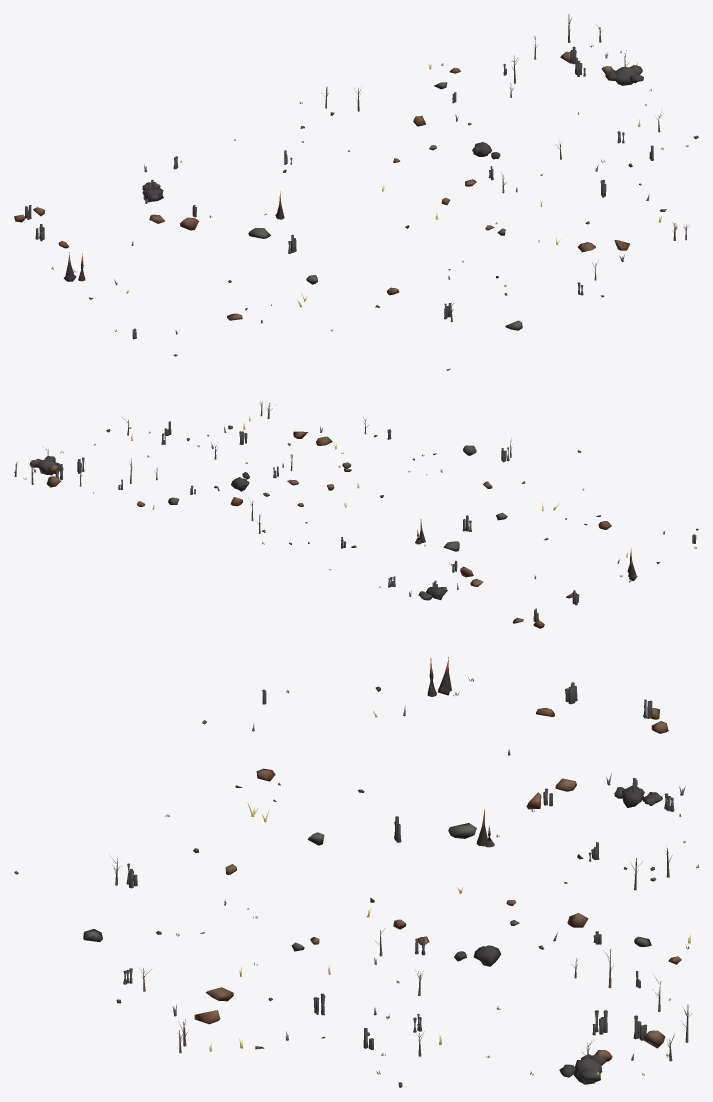
File: ash_land_scatter_c21_31.glb
The picture shows the model from 3 angles, top to bottom: view 1: azimuth 30°, elevation 25°; view 2: azimuth 150°, elevation 25°; view 3: azimuth 270°, elevation 25°; orthographic projection. The views are drawn at different scales.
Visible parts, largest first — view 1: ash_land_scatter_c21_31; view 2: ash_land_scatter_c21_31; view 3: ash_land_scatter_c21_31.
Boxes of the visible parts, box(x1,y1,x2,y2) form: ash_land_scatter_c21_31: box(14, 14, 698, 370); ash_land_scatter_c21_31: box(14, 401, 698, 628); ash_land_scatter_c21_31: box(14, 657, 698, 1087).
Size of the model in its own units: 203 by 26.83 by 140.
